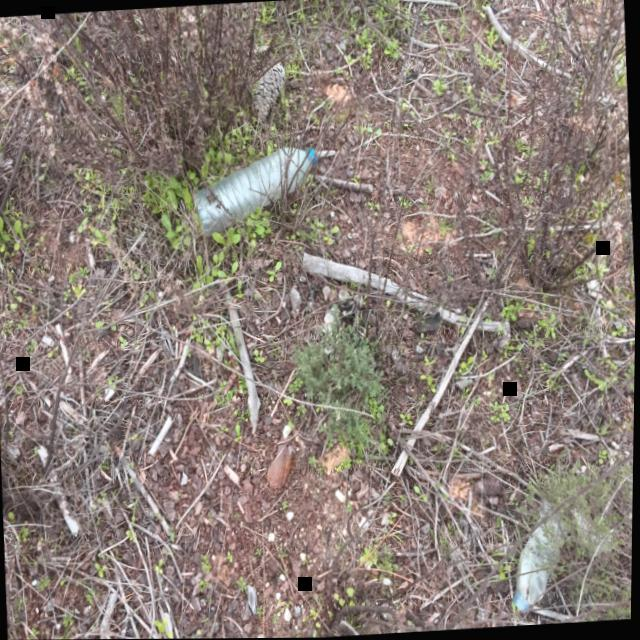Clear plastic bottle: (192, 146, 315, 236), (513, 517, 565, 612)
